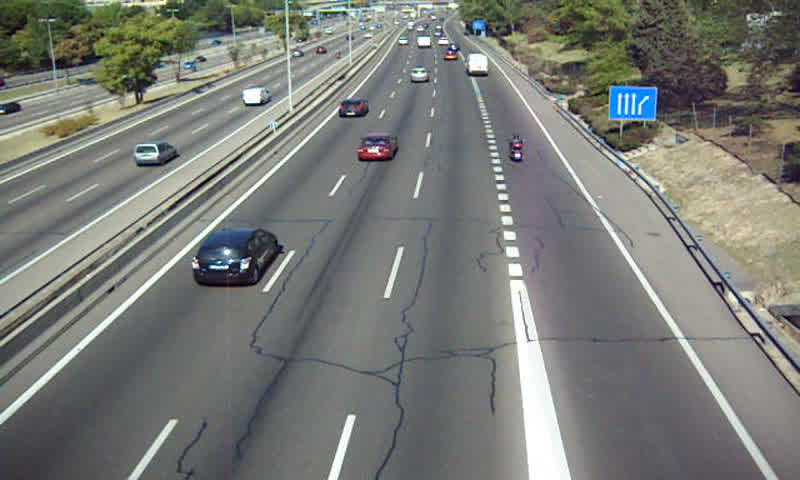car: (191, 228, 279, 286), (357, 132, 398, 161), (337, 97, 369, 116), (408, 68, 427, 83), (440, 50, 458, 62), (396, 35, 409, 45)
motorcycle: (506, 132, 527, 164)
van: (464, 53, 490, 76), (418, 36, 430, 48)
